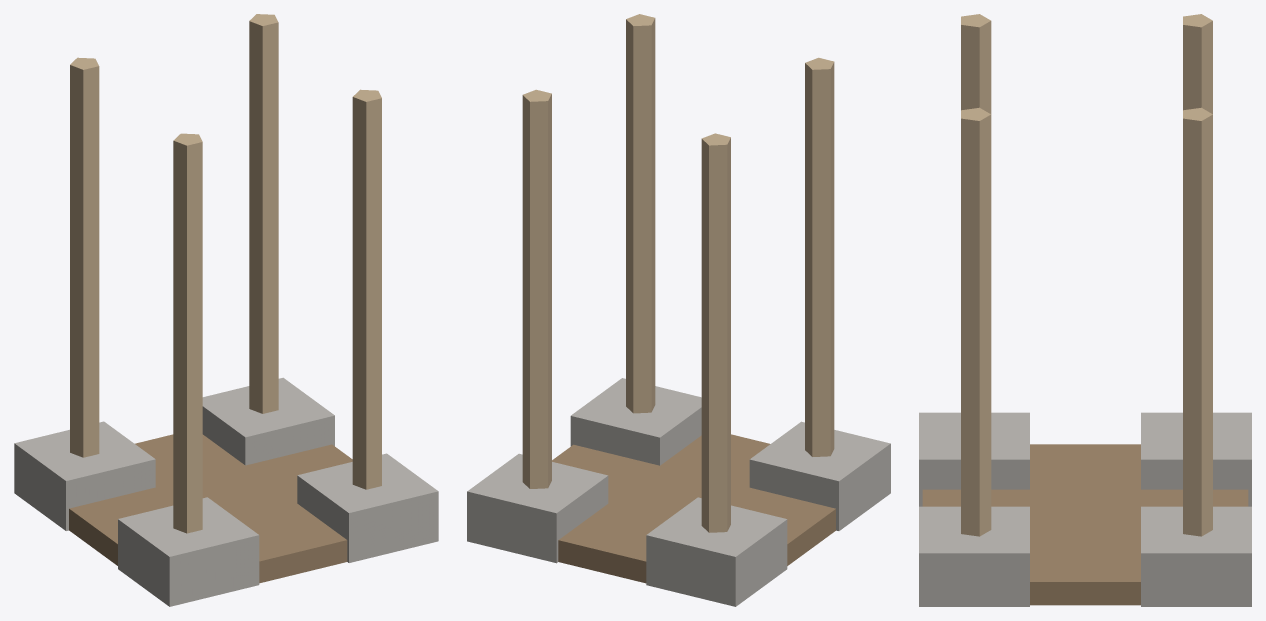
Rendered from building_bee_skep_frame.glb.
3 views of the same model, side by side, from view 1: azimuth 30°, elevation 25°; view 2: azimuth 150°, elevation 25°; view 3: azimuth 270°, elevation 25° (orthographic). The views are drawn at different scales.
Visible parts, largest first — view 1: building_bee_skep_frame; view 2: building_bee_skep_frame; view 3: building_bee_skep_frame.
Boxes of the visible parts, <box> form: building_bee_skep_frame: <box>14,14,438,606</box>; building_bee_skep_frame: <box>467,14,890,606</box>; building_bee_skep_frame: <box>919,14,1251,606</box>.
Bounding box in the file's own units: 0.9 × 1.4 × 0.9.
